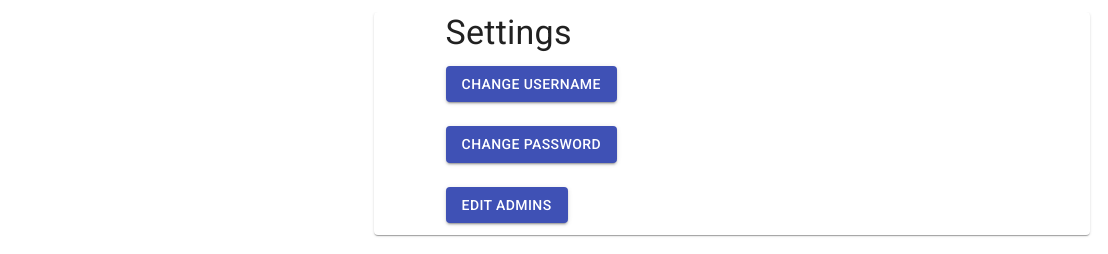
Test: Settings.test › Goes to change password when button is clicked on
Click the button "Change Password" at (531, 145), box [446,126,617,163]
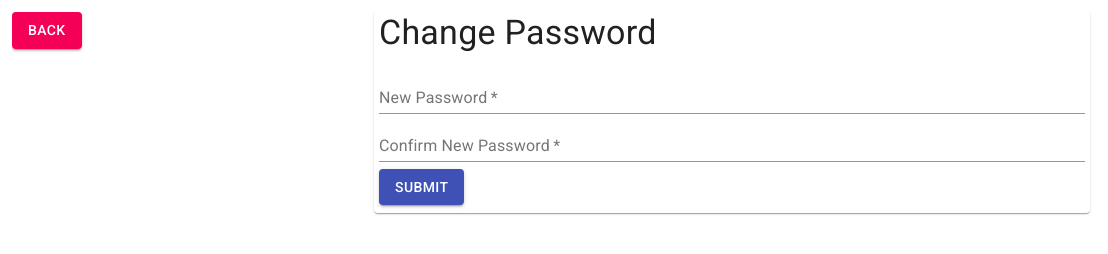
Expected: the text "New Password *" is shown, [379,90,498,106]
